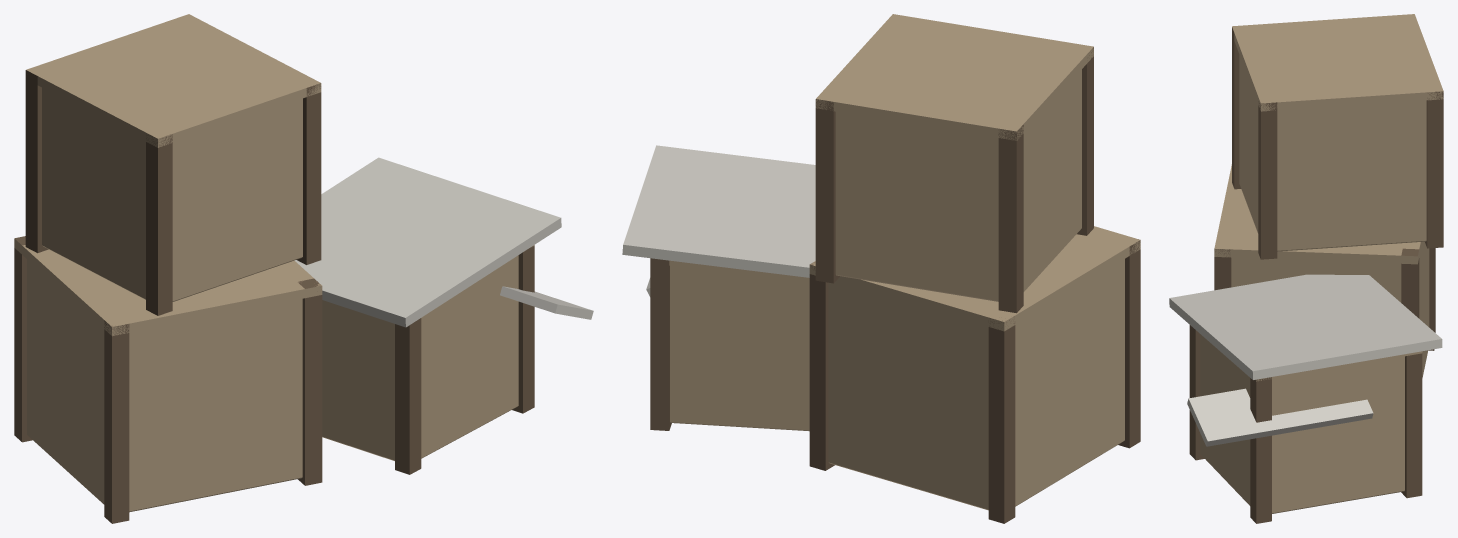
The model's file is Dress_CrateStack_Low.fbx.
3 renders of one model, left to right at view 1: azimuth 30°, elevation 25°; view 2: azimuth 150°, elevation 25°; view 3: azimuth 270°, elevation 25°, orthographic. The views are drawn at different scales.
Parts seen in each view (by area): view 1: Dress_CrateStack_Low; view 2: Dress_CrateStack_Low; view 3: Dress_CrateStack_Low.
Boxes of the visible parts, left/top/right/bottom form: Dress_CrateStack_Low: left=14, top=14, right=593, bottom=523; Dress_CrateStack_Low: left=622, top=14, right=1140, bottom=523; Dress_CrateStack_Low: left=1169, top=14, right=1443, bottom=523.
Size of the model in its own units: 149 by 114 by 85.97.
